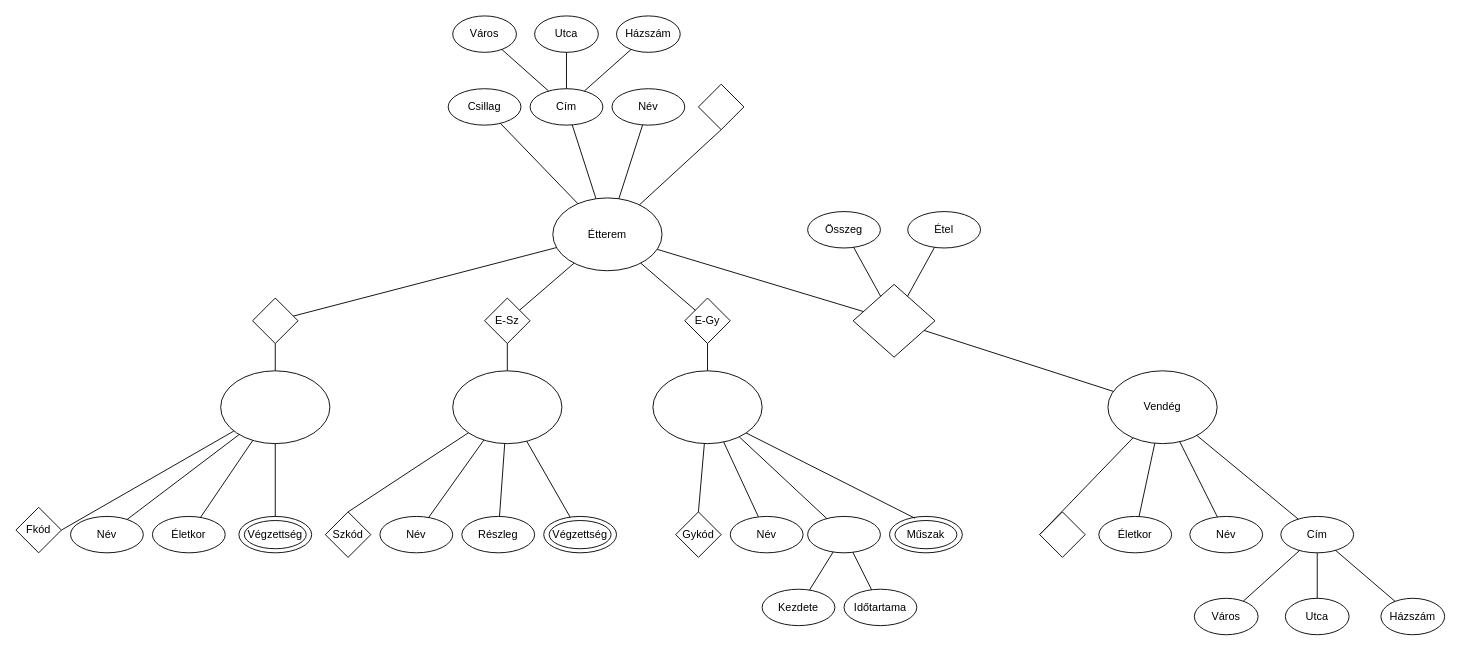
This 1461x651 diagram has some shape labels left out. Here are the shapes that lost their labels. From the top down, the centre of each, then its label:
[721,106]: Ekód
[275,320]: E-F
[893,320]: Rendelés
[275,407]: Főszakács
[507,407]: Szakács
[707,407]: Gyakornok
[843,534]: Gyakorlat
[1062,534]: Vkód
